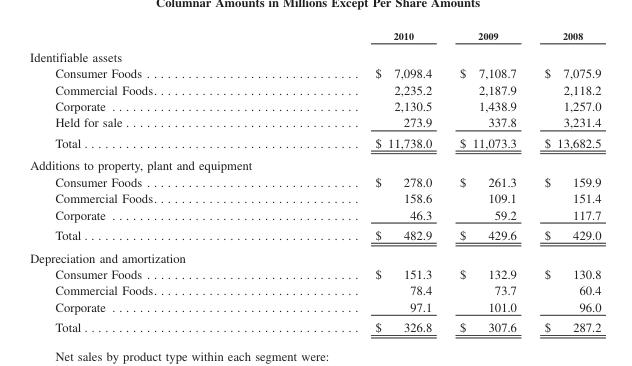table: (29, 28, 600, 334)
table column: (29, 28, 265, 334), (265, 28, 445, 334), (445, 28, 529, 334), (529, 28, 600, 334)
table column header: (29, 28, 600, 45)
table projected row header: (29, 45, 600, 64), (29, 153, 600, 172), (29, 245, 600, 264)
table row: (29, 131, 600, 153), (29, 223, 600, 245), (29, 45, 600, 64), (29, 153, 600, 172), (29, 245, 600, 264), (29, 297, 600, 316), (29, 113, 600, 131), (29, 205, 600, 223), (29, 316, 600, 334), (29, 28, 600, 45), (29, 96, 600, 113), (29, 172, 600, 189), (29, 264, 600, 281), (29, 64, 600, 80), (29, 80, 600, 96), (29, 189, 600, 205), (29, 281, 600, 297)
